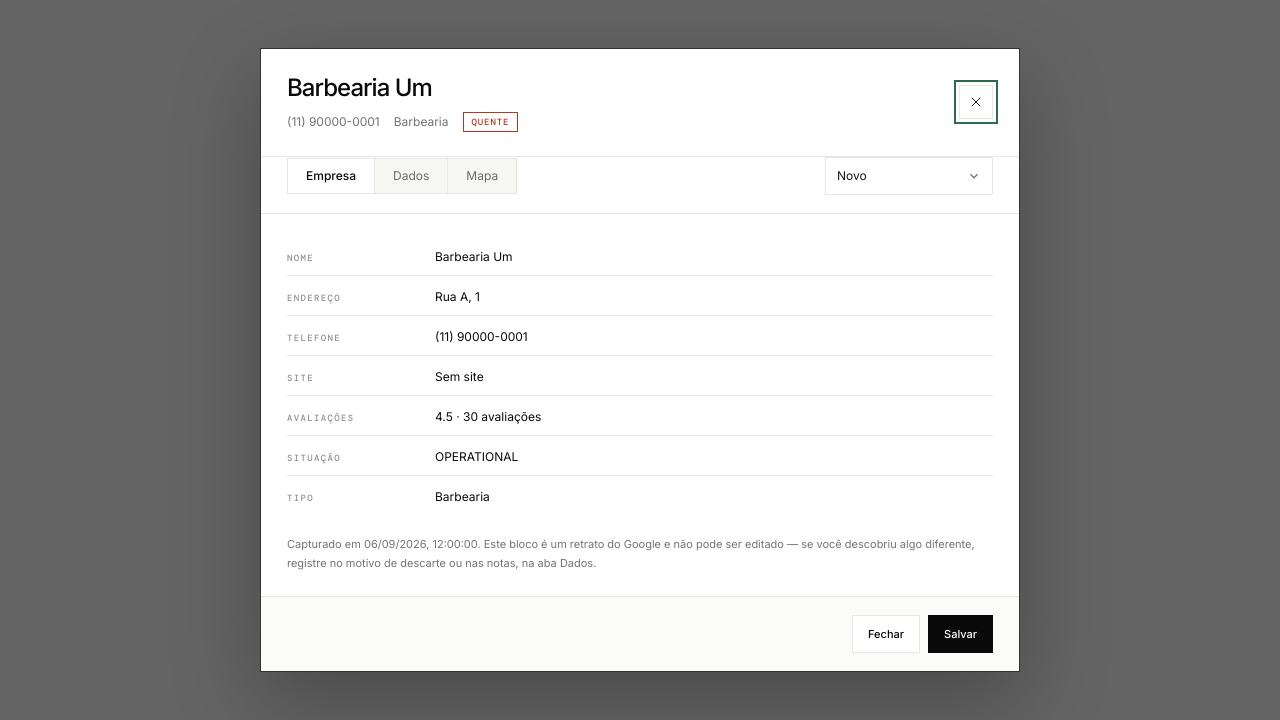
Test: LeadModal › lista as atividades
Click the tab "Dados": (411, 176) [374, 159, 447, 193]
(page scrolled)
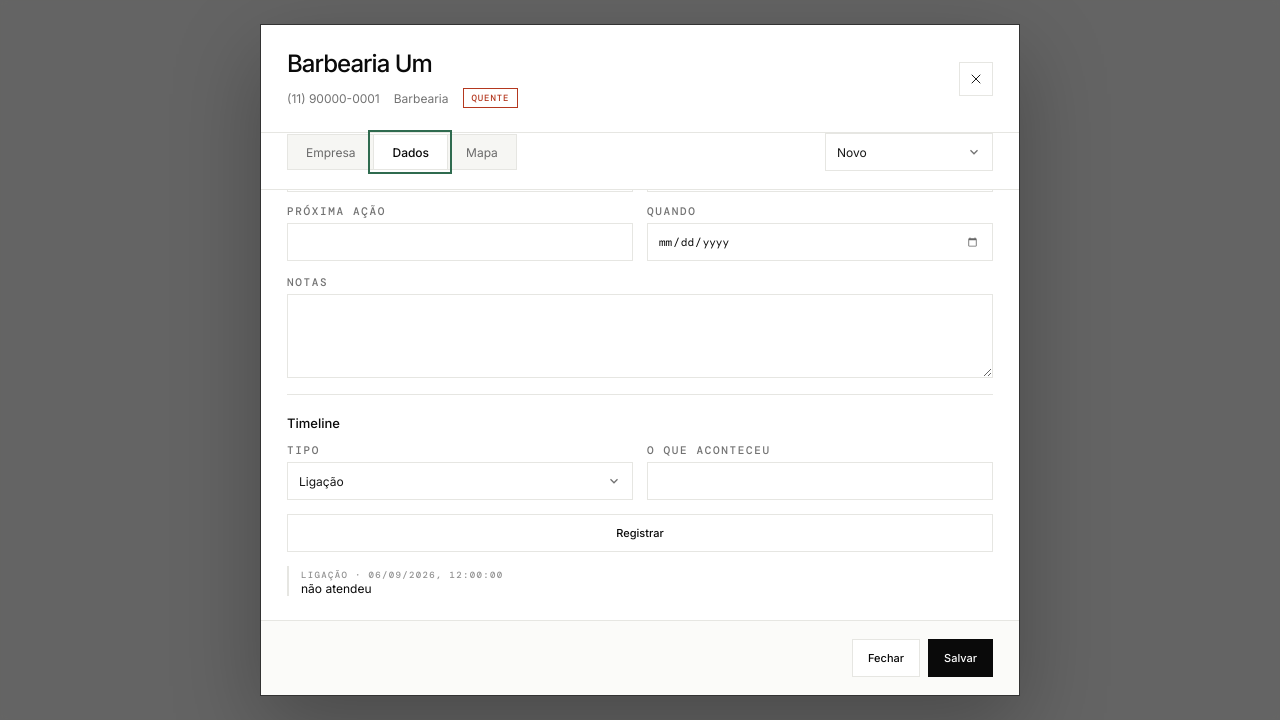
Expected: the text "não atendeu" is shown, [301, 581, 372, 596]
Expected: the text "Ligação · 06/09/2026, 12:00:00" is shown, [301, 569, 504, 581]
